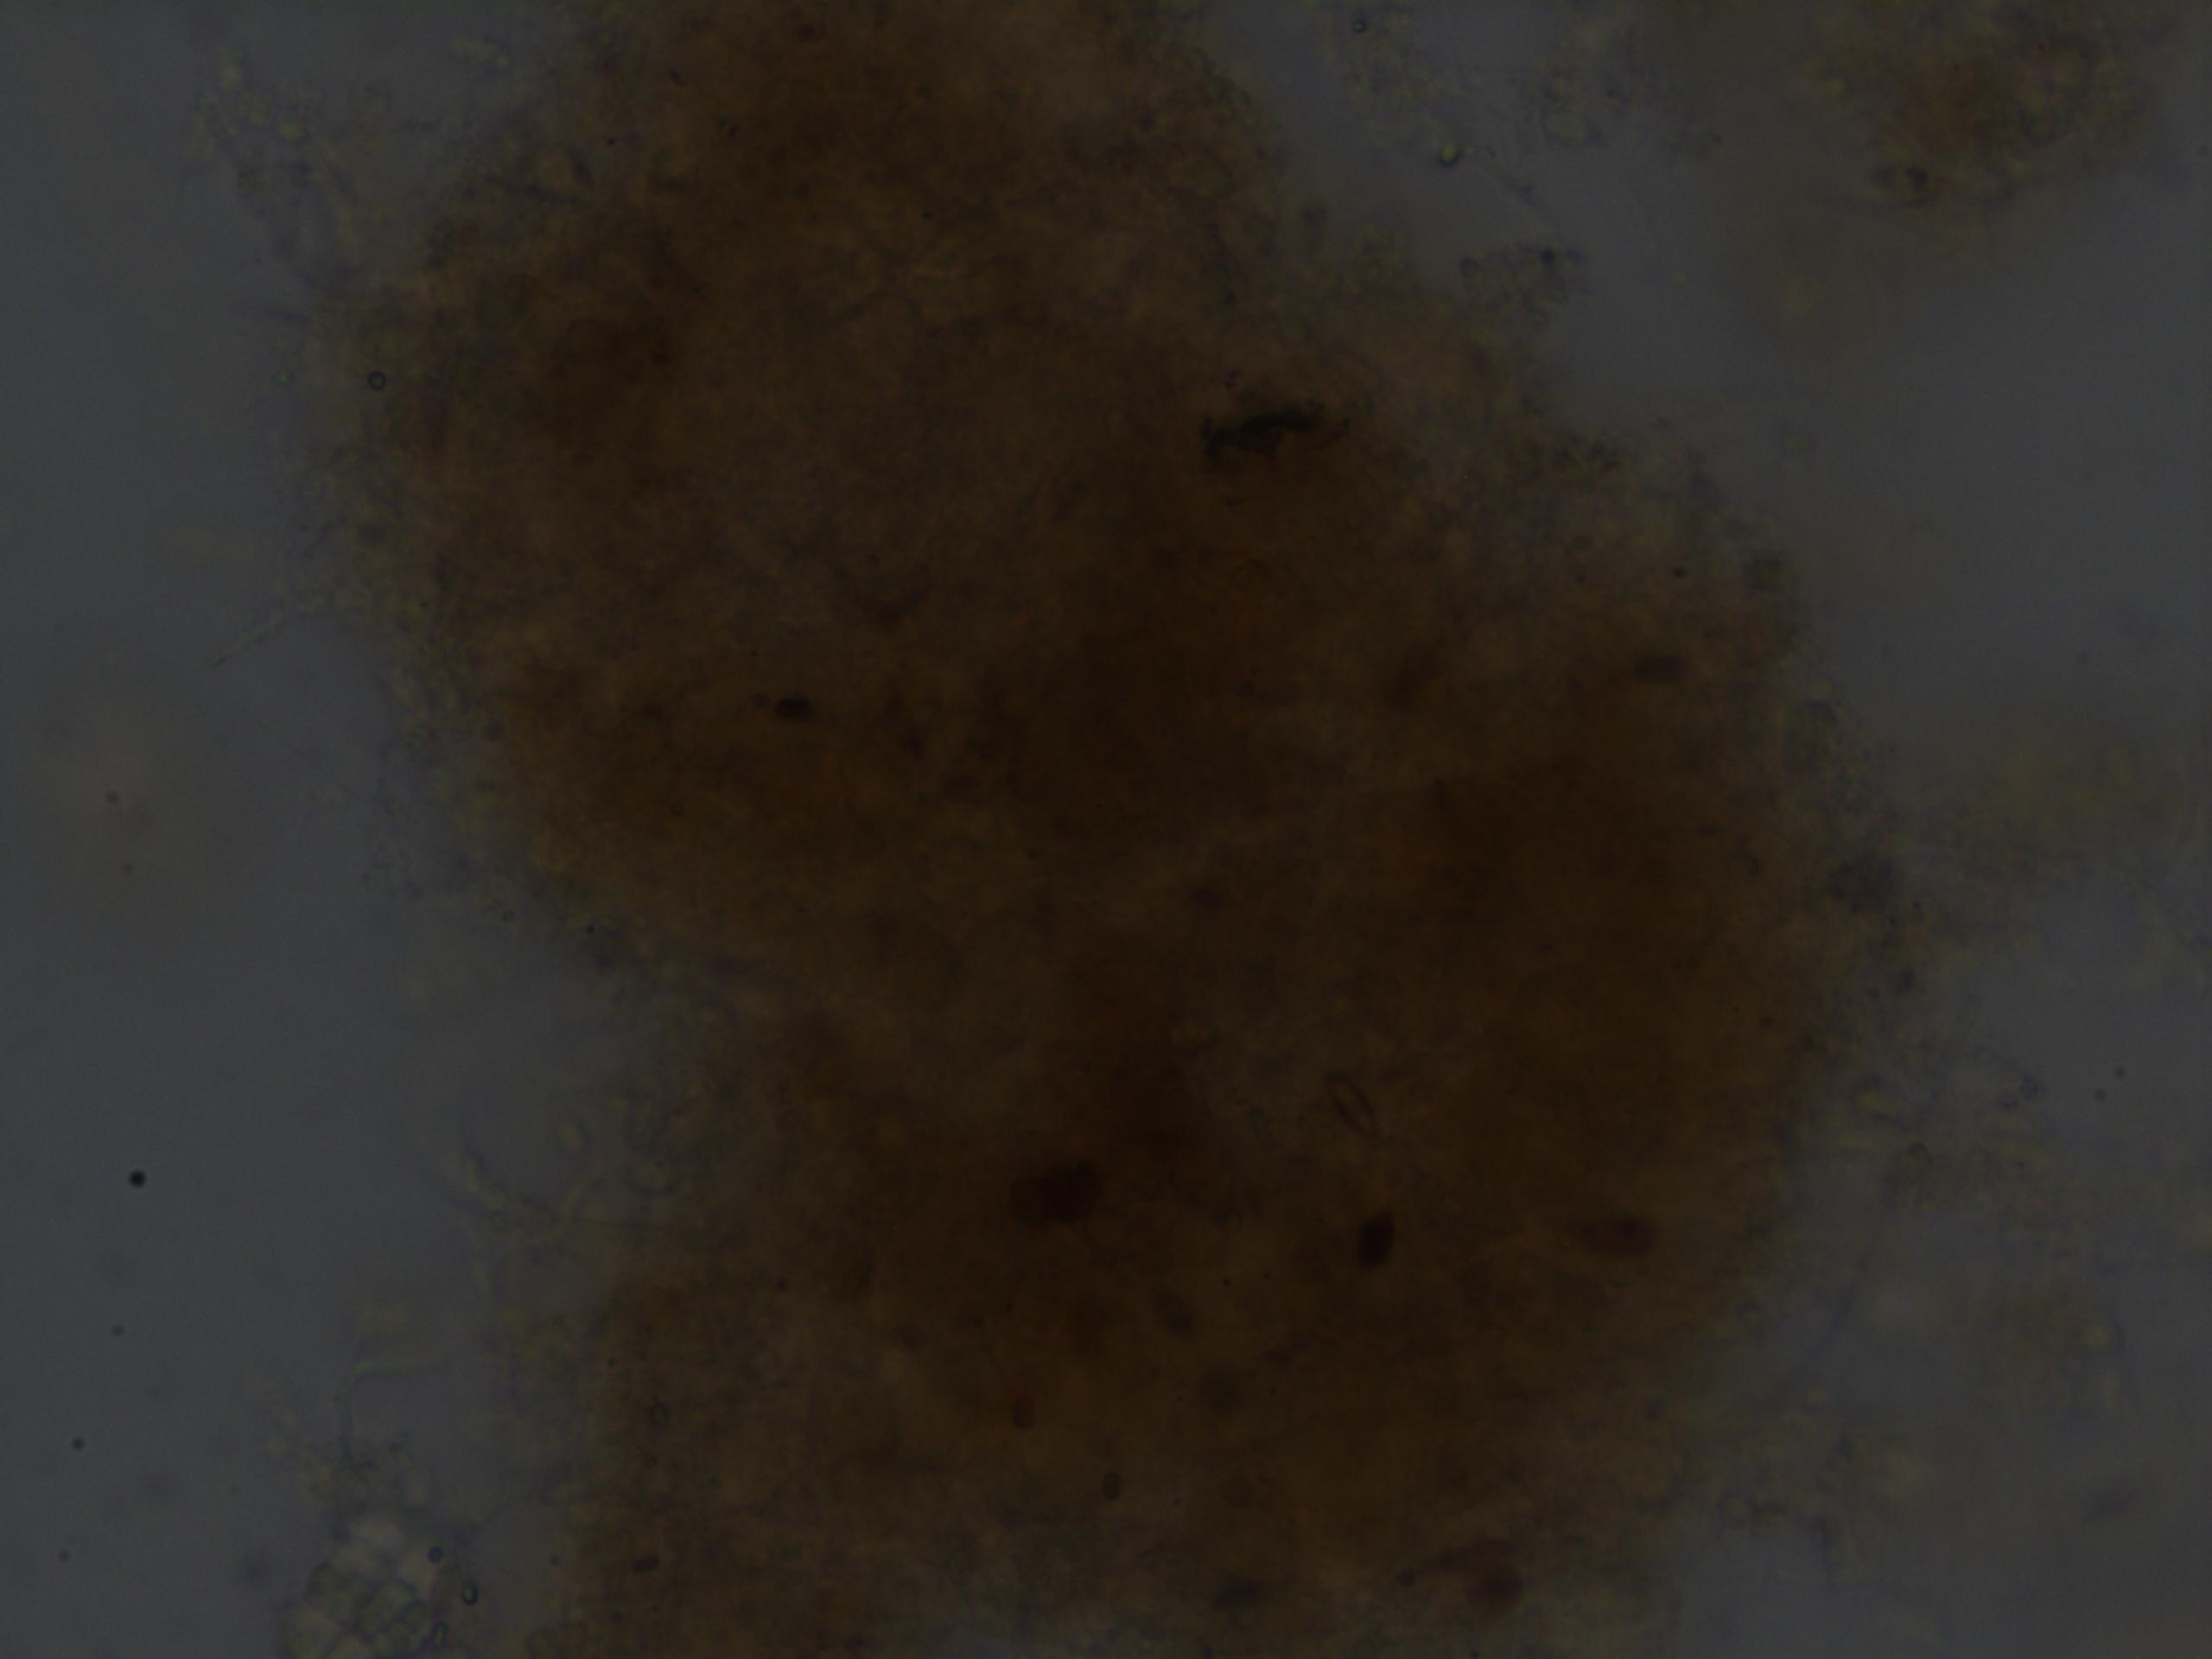spherical_floc: (357, 3, 1860, 1659)
